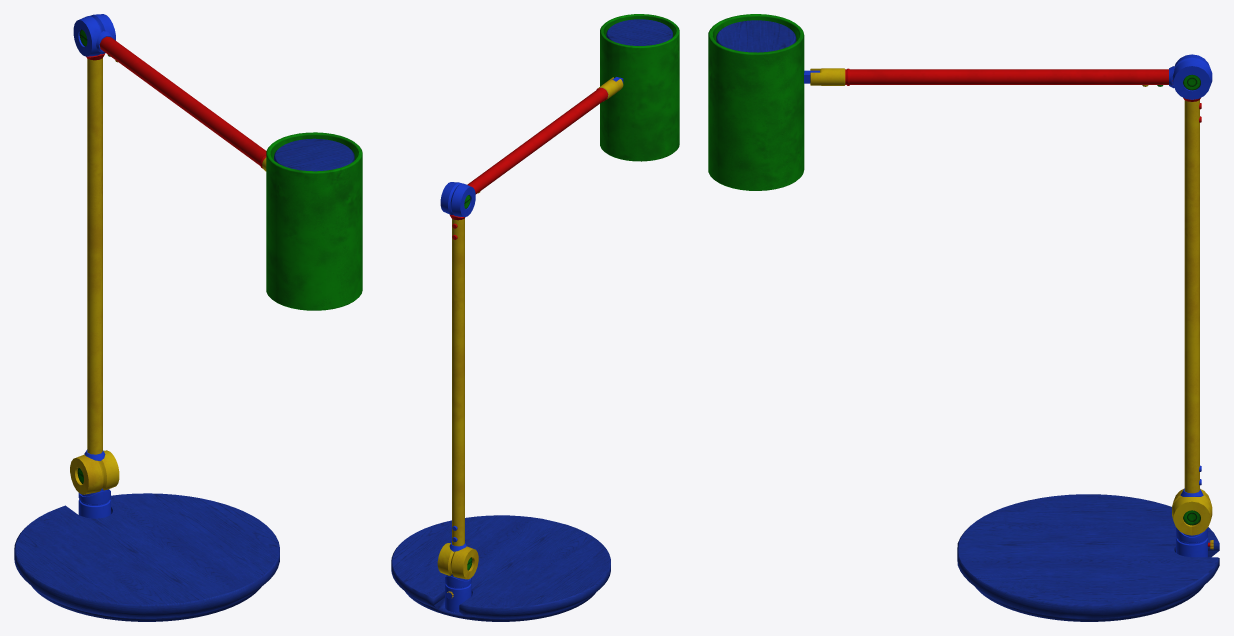
File: DeskLamp.fbx
The picture shows the model from 3 angles, left to right: view 1: azimuth 30°, elevation 25°; view 2: azimuth 150°, elevation 25°; view 3: azimuth 270°, elevation 25°; orthographic projection. The views are drawn at different scales.
Visible parts, largest first — view 1: DeskLampBase, DeskLampHead, DeskLampArm_1, DeskLampArm2; view 2: DeskLampBase, DeskLampHead, DeskLampArm_1, DeskLampArm2; view 3: DeskLampBase, DeskLampHead, DeskLampArm_1, DeskLampArm2.
Boxes of the visible parts, <box> form: DeskLampBase: <box>14,488,279,621</box>; DeskLampHead: <box>266,132,362,310</box>; DeskLampArm_1: <box>70,53,119,494</box>; DeskLampArm2: <box>73,14,266,171</box>; DeskLampBase: <box>391,515,610,621</box>; DeskLampHead: <box>600,14,679,161</box>; DeskLampArm_1: <box>437,214,478,579</box>; DeskLampArm2: <box>440,77,623,217</box>; DeskLampBase: <box>957,494,1219,621</box>; DeskLampHead: <box>708,14,819,190</box>; DeskLampArm_1: <box>1172,97,1212,535</box>; DeskLampArm2: <box>810,54,1212,99</box>.
Size of the model in its own units: 16.5 by 37.04 by 31.93.
